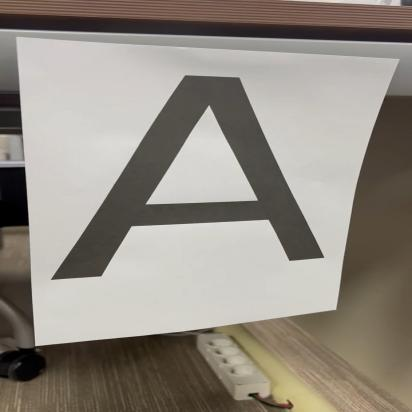seat: (35, 62, 335, 287)
